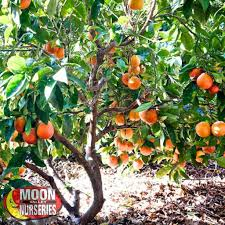orange: (140, 108, 159, 126), (198, 74, 212, 89)
